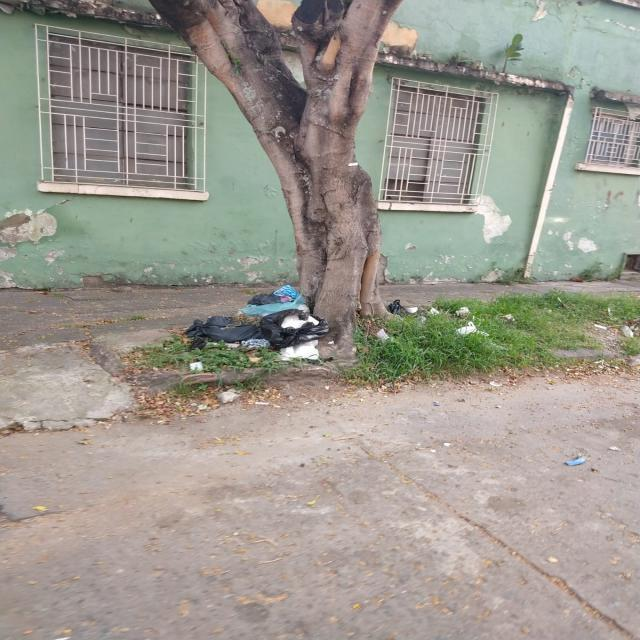Trashbag: (260, 304, 334, 358), (182, 313, 264, 346)
